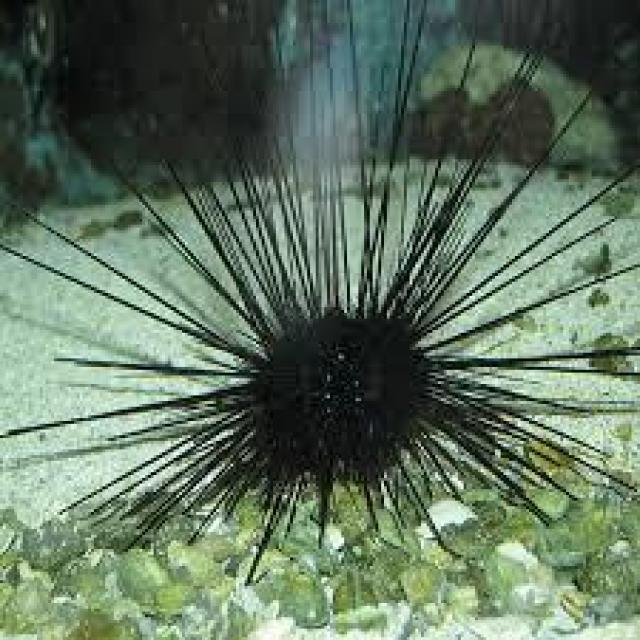Urchin: (17, 103, 640, 592)
